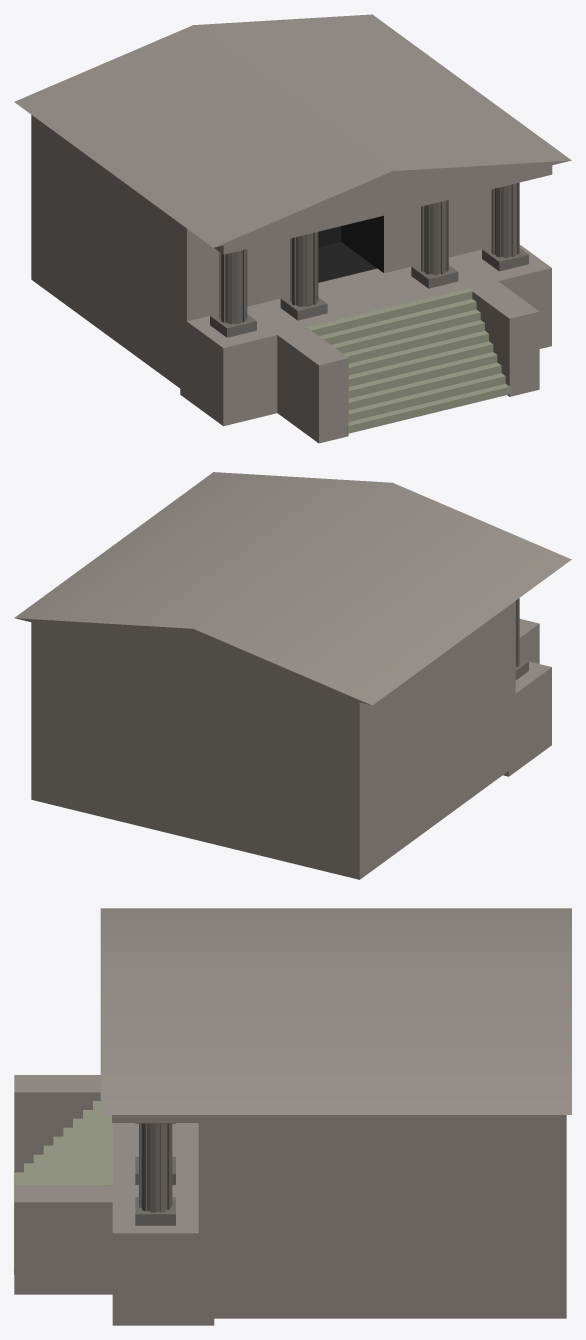
Rendered from Museum.fbx.
3 renders of one model, top to bottom at view 1: azimuth 30°, elevation 25°; view 2: azimuth 150°, elevation 25°; view 3: azimuth 270°, elevation 25°, orthographic. The views are drawn at different scales.
Visible parts, largest first — view 1: Museum; view 2: Museum; view 3: Museum.
Part boxes in pixels (x1,y1,x2,y2): Museum: (14, 14, 571, 443); Museum: (14, 472, 571, 879); Museum: (14, 908, 571, 1325).
Size of the model in its own units: 0.24 by 0.1399 by 0.2739.
